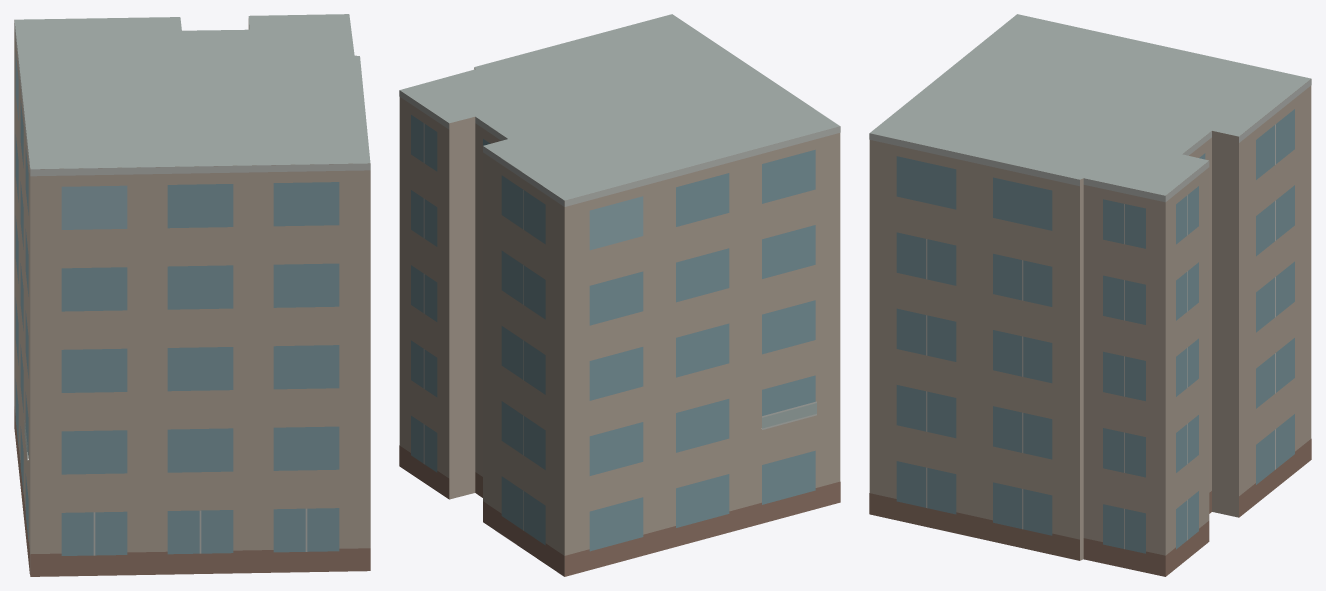
Rendered from survey-upis-32657590.glb.
The picture shows the model from 3 angles, left to right: view 1: azimuth 30°, elevation 25°; view 2: azimuth 150°, elevation 25°; view 3: azimuth 270°, elevation 25°; orthographic projection. The views are drawn at different scales.
Parts seen in each view (by area): view 1: survey-upis-32657590.tmp; view 2: survey-upis-32657590.tmp; view 3: survey-upis-32657590.tmp.
Part boxes in pixels (box(x1,y1,x2,y2)): survey-upis-32657590.tmp: box(14, 14, 370, 576); survey-upis-32657590.tmp: box(399, 14, 840, 576); survey-upis-32657590.tmp: box(869, 14, 1311, 576).
Bounding box in the file's own units: 14.59 × 14.25 × 14.99.
